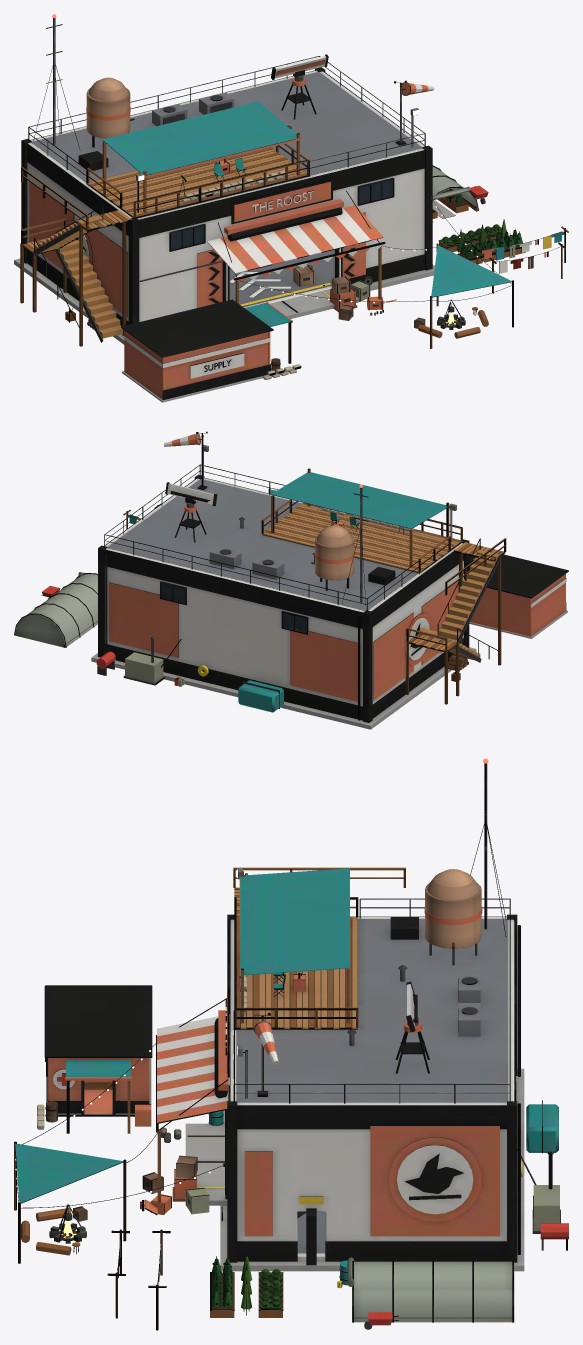
File: roost.glb
3 renders of one model, top to bottom at view 1: azimuth 30°, elevation 25°; view 2: azimuth 150°, elevation 25°; view 3: azimuth 270°, elevation 25°, orthographic. The views are drawn at different scales.
Visible parts, largest first — view 1: hull, glass, spin.y.10.0; view 2: hull, glass, spin.y.10.0; view 3: hull.
Boxes of the visible parts, box(x1,y1,x2,y2) form: hull: box(14, 18, 568, 402); glass: box(171, 179, 392, 250); spin.y.10.0: box(271, 54, 328, 81); hull: box(14, 433, 568, 729); glass: box(161, 583, 306, 633); spin.y.10.0: box(165, 482, 217, 508); hull: box(14, 763, 568, 1330).
Size of the model in its own units: 33.71 by 18.06 by 27.37.
Materials: 35 (28 with a texture image).
